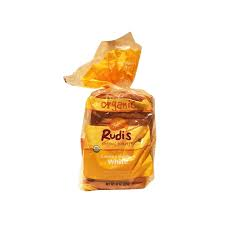bread: (71, 34, 178, 212)
